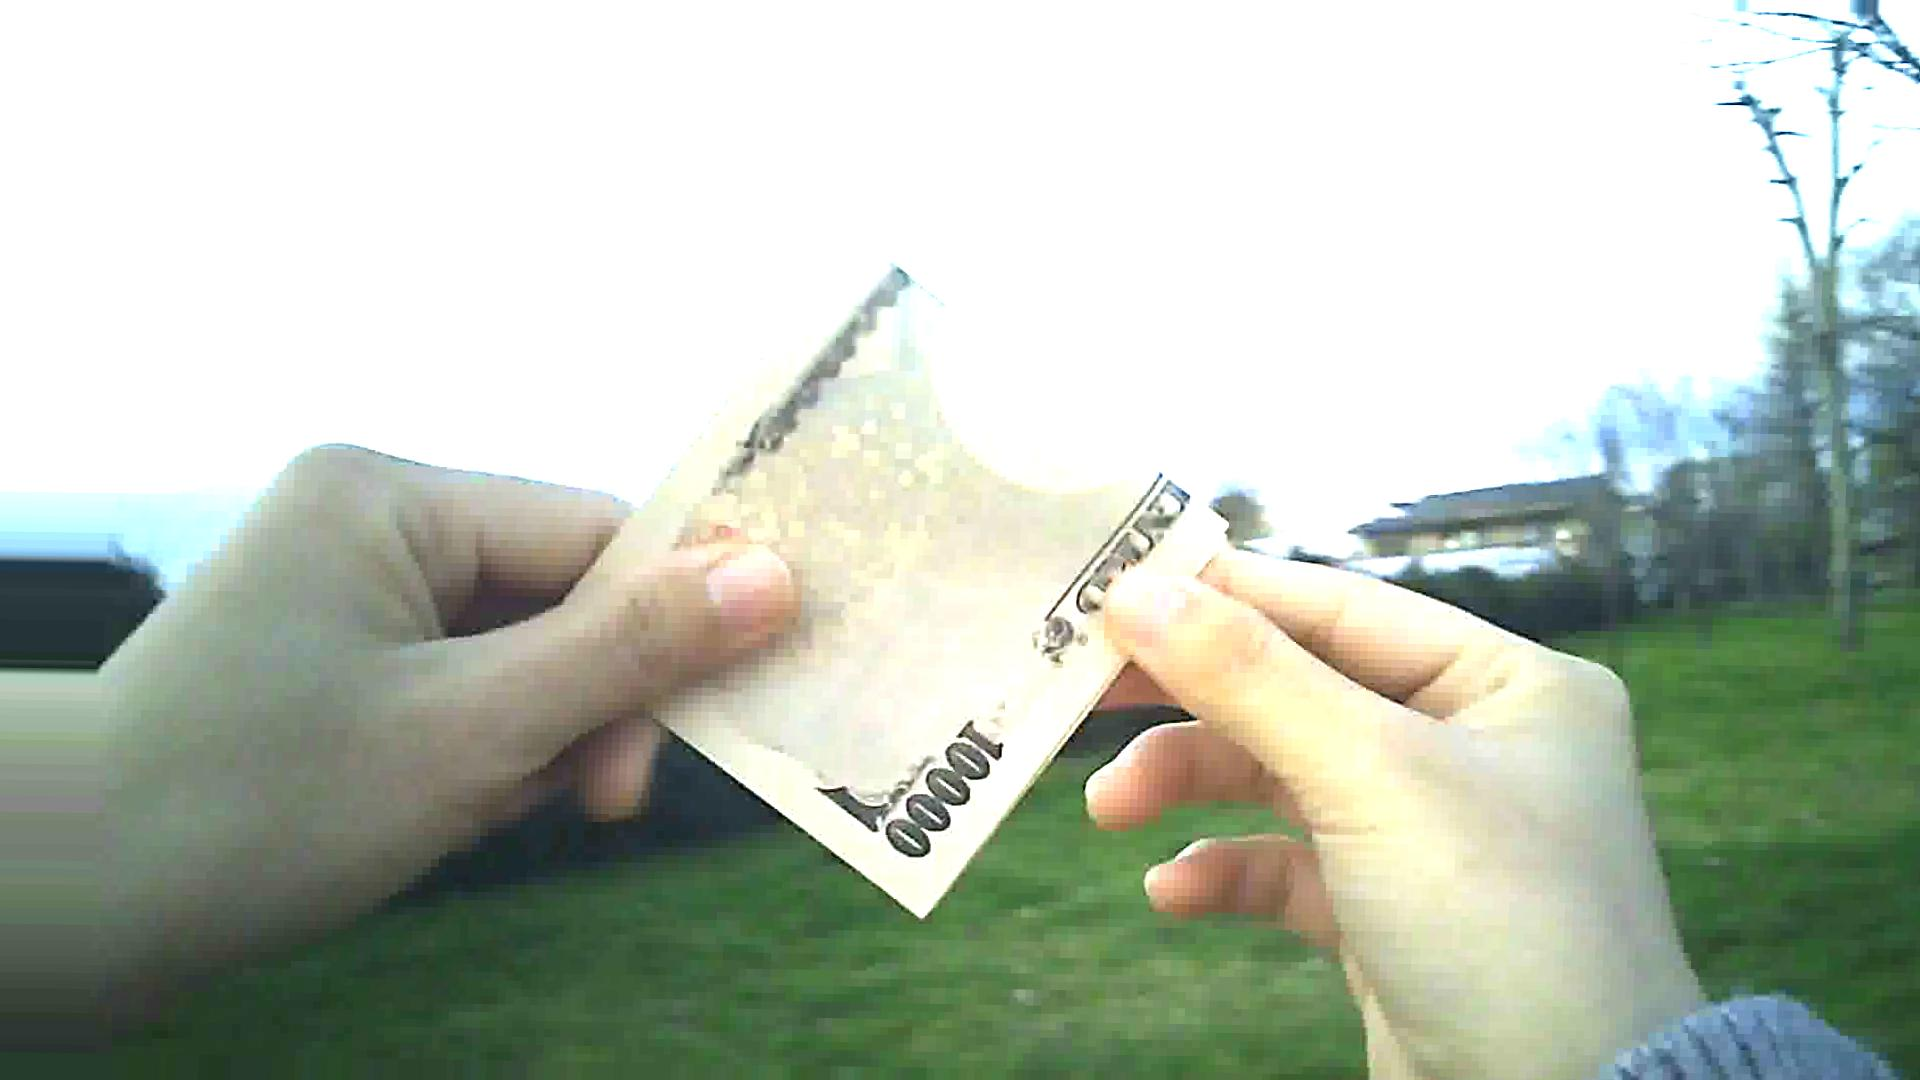10,000 Yen: (556, 247, 1224, 939)
